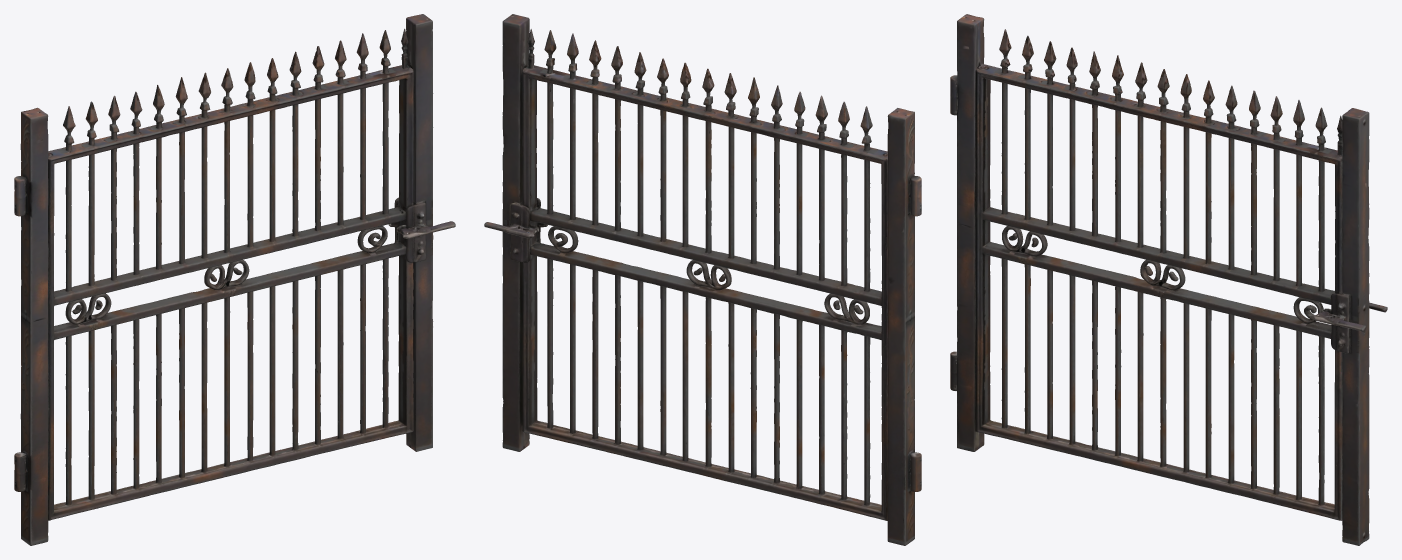
The model's file is modular cemetery_DKB.glb.
The picture shows the model from 3 angles, left to right: view 1: azimuth 30°, elevation 25°; view 2: azimuth 150°, elevation 25°; view 3: azimuth 330°, elevation 25°; orthographic projection.
Size of the model in its own units: 1.92 by 1.84 by 0.2306.
Materials: 1 (1 with a texture image).
